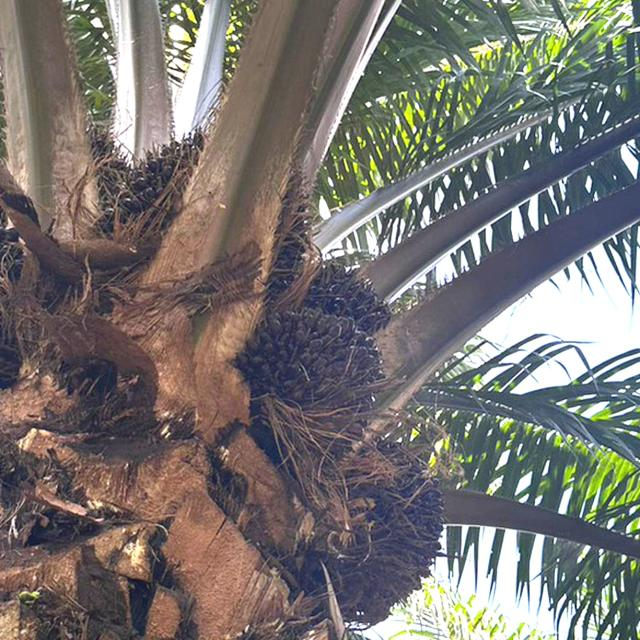almost: (235, 304, 387, 464)
